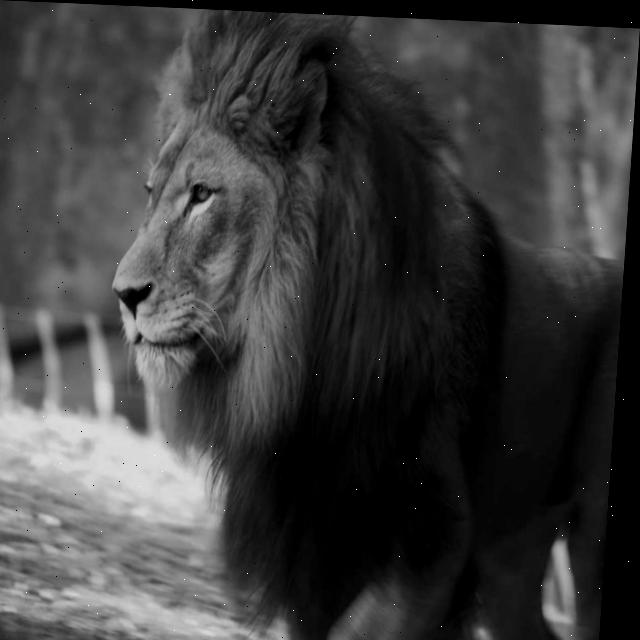Lion: (76, 25, 556, 542)
